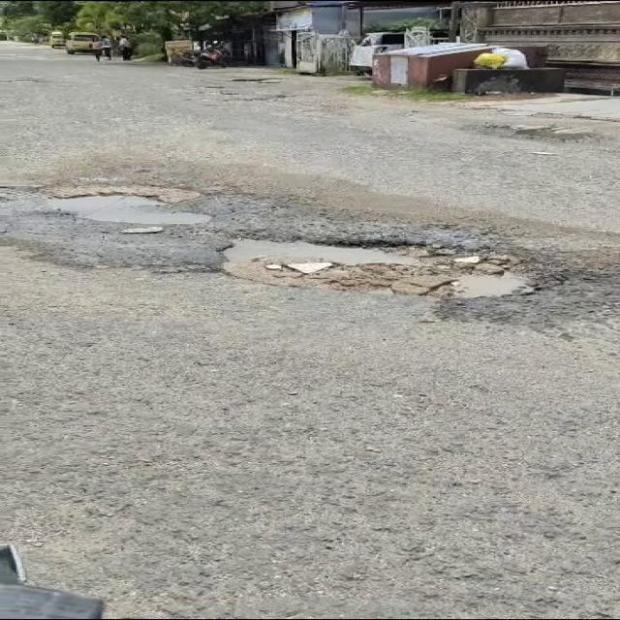lubang: (223, 240, 542, 298), (0, 187, 209, 234)
